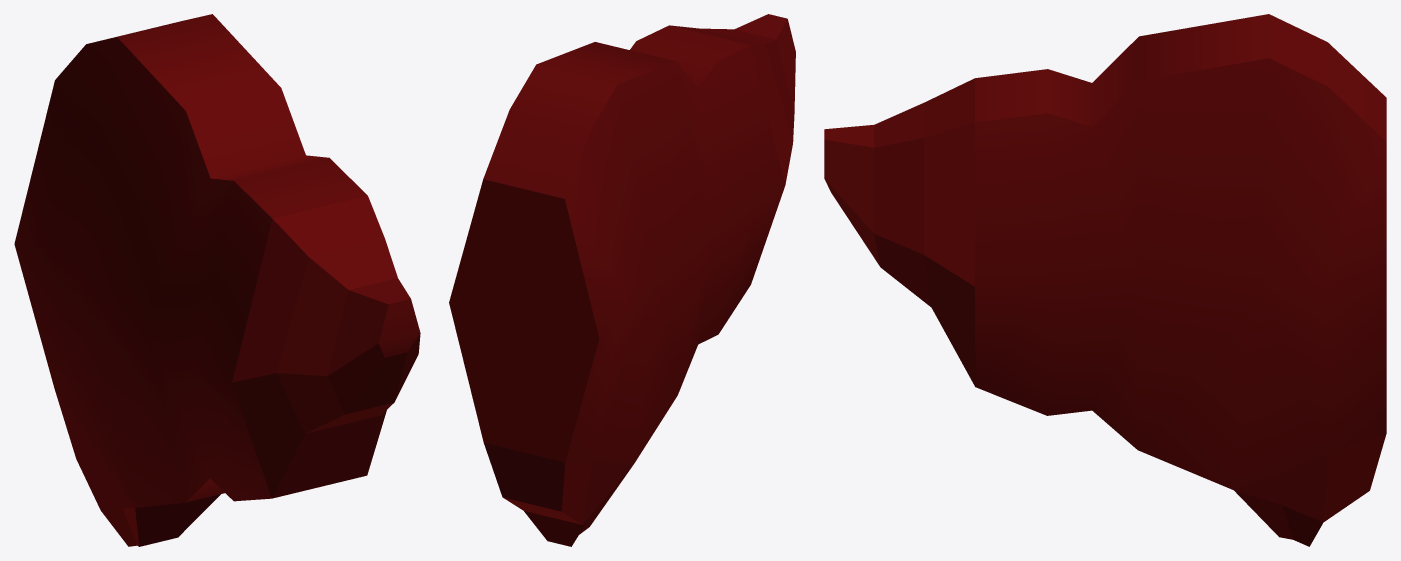
File: Liver.fbx
The picture shows the model from 3 angles, left to right: view 1: azimuth 30°, elevation 25°; view 2: azimuth 150°, elevation 25°; view 3: azimuth 270°, elevation 25°; orthographic projection. The views are drawn at different scales.
Parts seen in each view (by area): view 1: Box001; view 2: Box001; view 3: Box001.
Part boxes in pixels (left/top/right/bottom): Box001: left=14, top=14, right=420, bottom=546; Box001: left=449, top=14, right=795, bottom=546; Box001: left=824, top=14, right=1386, bottom=546.
Bounding box in the file's own units: 20.2 × 58.51 × 59.06.
